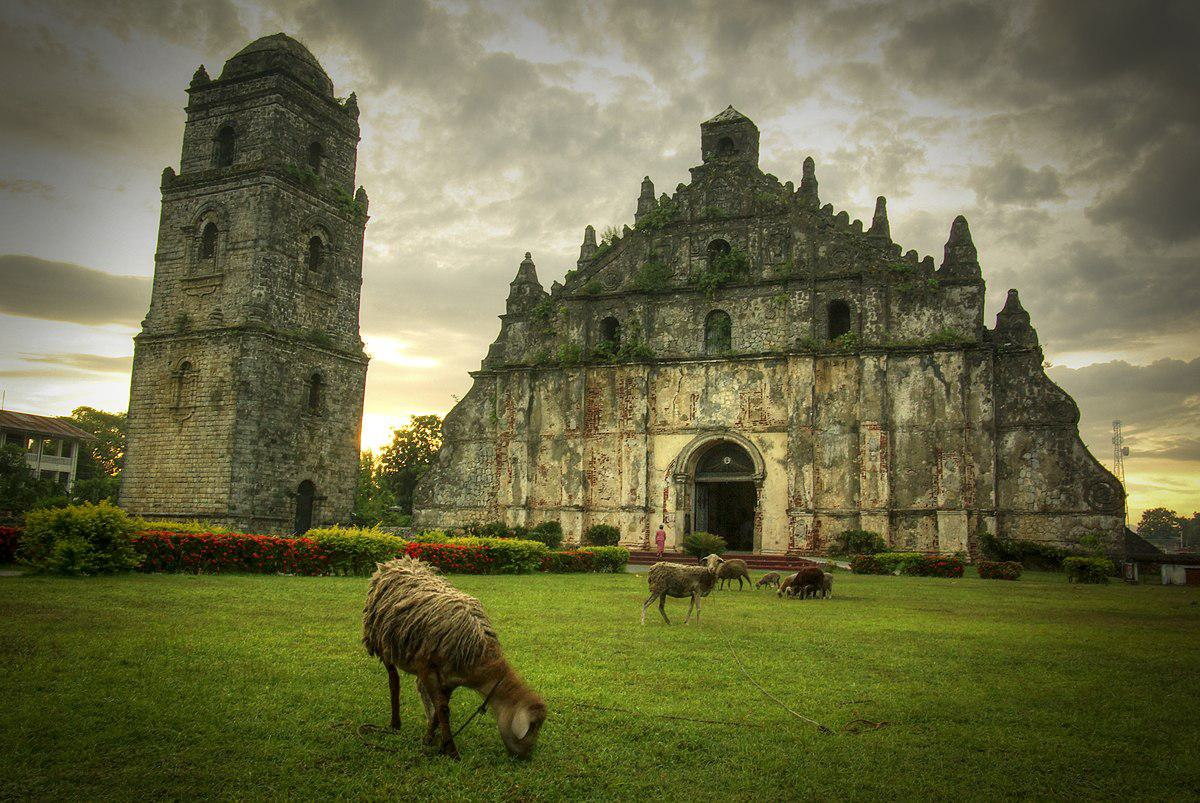Environmental Damage: (514, 334, 653, 370), (687, 245, 756, 300), (291, 168, 363, 212), (299, 324, 342, 355)
Paoay Church: (125, 30, 1132, 568)
